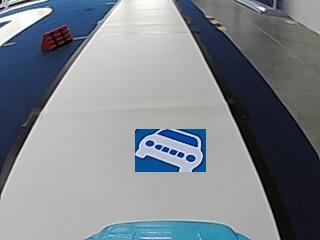bomb: (41, 23, 72, 50)
